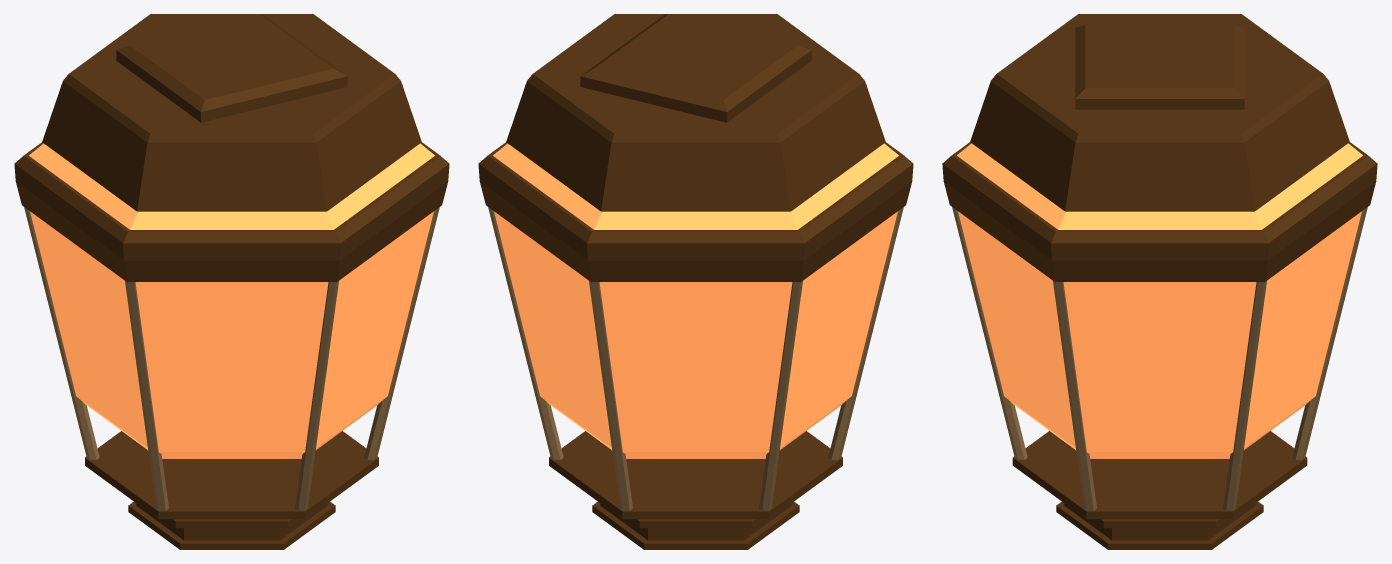
The model's file is KongMingDeng1105.fbx.
3 renders of one model, left to right at view 1: azimuth 30°, elevation 25°; view 2: azimuth 150°, elevation 25°; view 3: azimuth 270°, elevation 25°, orthographic.
Visible parts, largest first — view 1: Cylinder.002, Cylinder, Cylinder.007; view 2: Cylinder.002, Cylinder, Cylinder.007; view 3: Cylinder.002, Cylinder, Cylinder.007.
Boxes of the visible parts, left/top/right/bottom form: Cylinder.002: left=14, top=14, right=449, bottom=549; Cylinder: left=29, top=143, right=434, bottom=458; Cylinder.007: left=24, top=207, right=439, bottom=510; Cylinder.002: left=478, top=14, right=913, bottom=549; Cylinder: left=493, top=143, right=898, bottom=458; Cylinder.007: left=488, top=207, right=903, bottom=510; Cylinder.002: left=942, top=14, right=1377, bottom=549; Cylinder: left=957, top=143, right=1362, bottom=458; Cylinder.007: left=952, top=207, right=1367, bottom=510.
Bounding box in the file's own units: 222 × 296 × 257.
